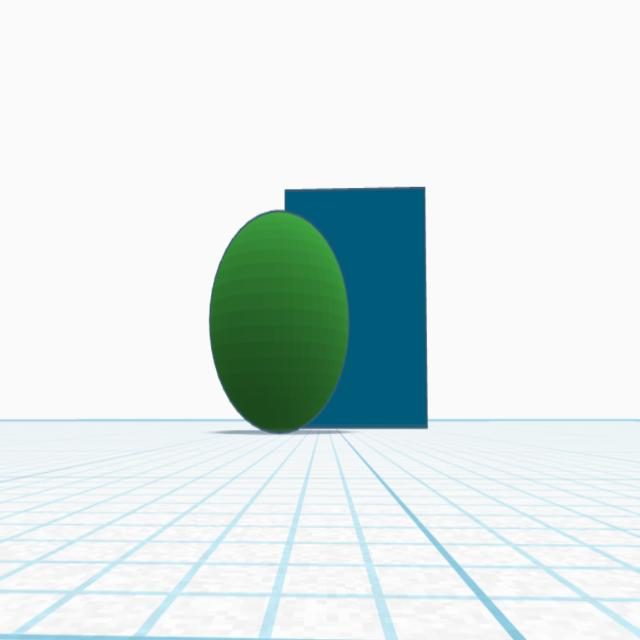sphere: (206, 208, 351, 439)
